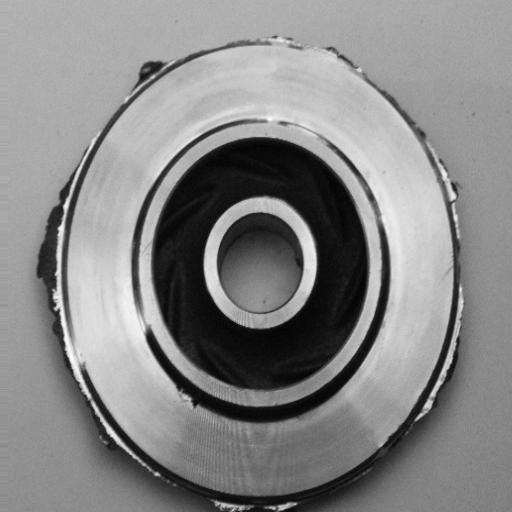casting_with_burr: (34, 30, 467, 512)
crack: (167, 374, 213, 415)
scratch: (259, 109, 342, 147)
